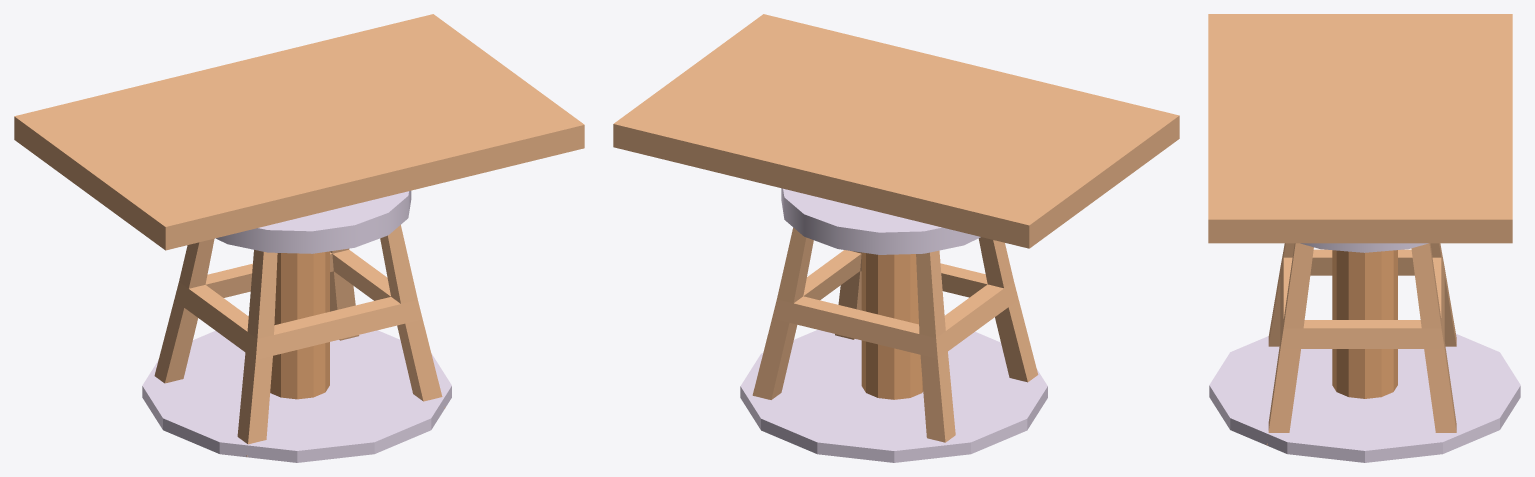
The model's file is Table_N_Chair_01.fbx.
The picture shows the model from 3 angles, left to right: view 1: azimuth 30°, elevation 25°; view 2: azimuth 150°, elevation 25°; view 3: azimuth 270°, elevation 25°; orthographic projection.
Parts seen in each view (by area): view 1: Table_Level_01, Chair_Level_01; view 2: Table_Level_01, Chair_Level_01; view 3: Table_Level_01, Chair_Level_01.
Boxes of the visible parts, left/top/right/bottom form: Table_Level_01: left=14, top=14, right=584, bottom=462; Chair_Level_01: left=154, top=190, right=445, bottom=456; Table_Level_01: left=613, top=14, right=1179, bottom=462; Chair_Level_01: left=752, top=188, right=1038, bottom=442; Table_Level_01: left=1208, top=14, right=1520, bottom=462; Chair_Level_01: left=1266, top=243, right=1456, bottom=445.
Size of the model in its own units: 351 by 223 by 226.
2 materials, 2 textured.
